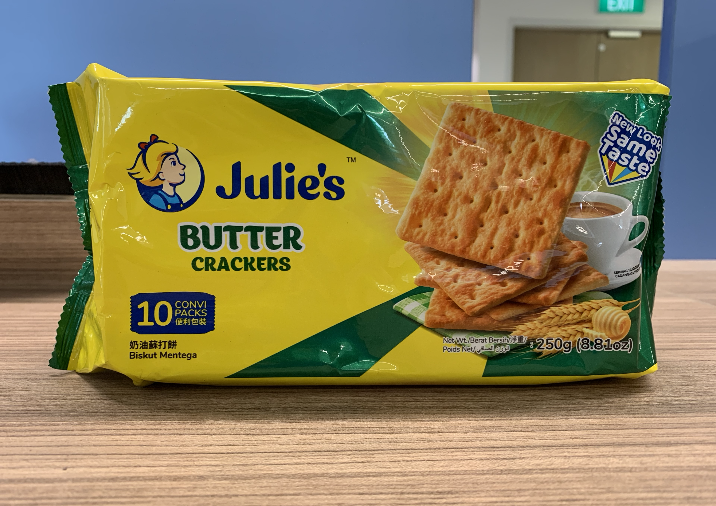crackers_200g-299g: (104, 96, 640, 369)
